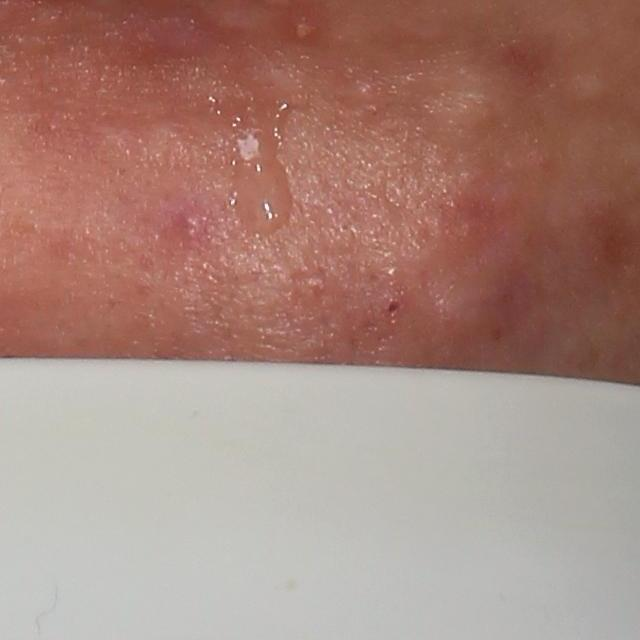hypertrophic_scar: (423, 53, 502, 141), (248, 58, 315, 112), (203, 0, 281, 42), (566, 72, 608, 109)
papule: (366, 284, 415, 331), (171, 208, 209, 248)
pustule: (286, 1, 328, 47)
